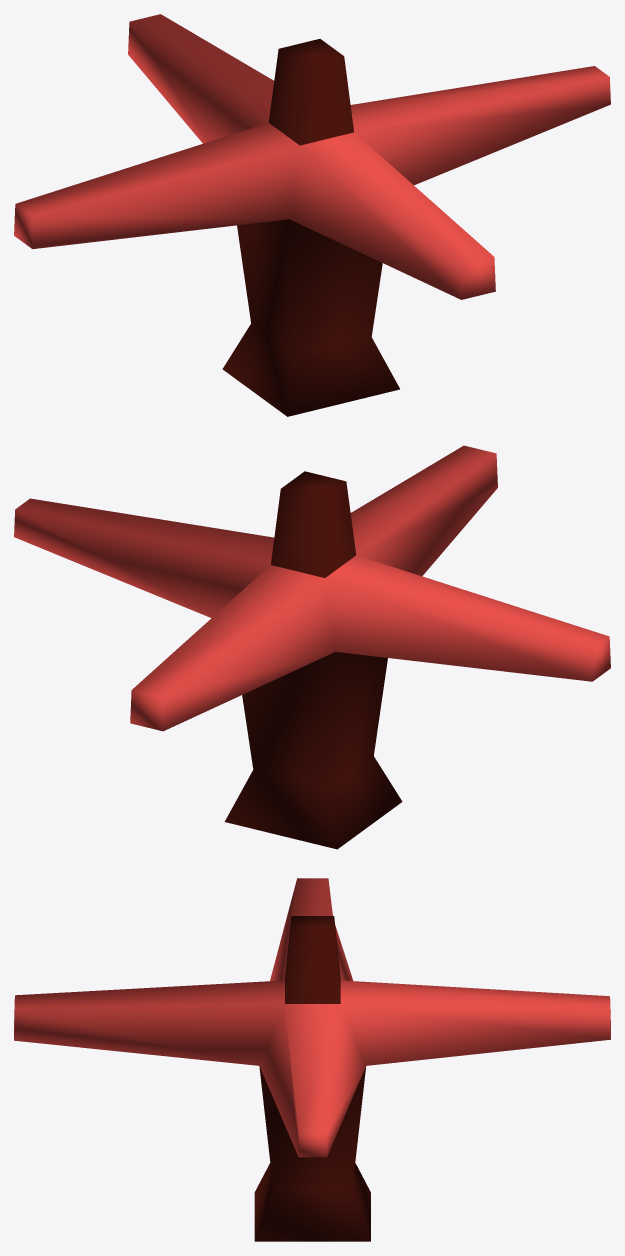
The model's file is spining_trap.glb.
The picture shows the model from 3 angles, top to bottom: view 1: azimuth 30°, elevation 25°; view 2: azimuth 150°, elevation 25°; view 3: azimuth 270°, elevation 25°; orthographic projection. The views are drawn at different scales.
Visible parts, largest first — view 1: Cube.001, Cube; view 2: Cube.001, Cube; view 3: Cube.001, Cube.
Boxes of the visible parts, x1,y1,x2,y2 form: Cube.001: [14, 14, 610, 299]; Cube: [222, 39, 399, 416]; Cube.001: [14, 445, 610, 731]; Cube: [224, 471, 402, 849]; Cube.001: [14, 878, 610, 1157]; Cube: [254, 916, 370, 1241].
Size of the model in its own units: 14.03 by 7.56 by 14.
